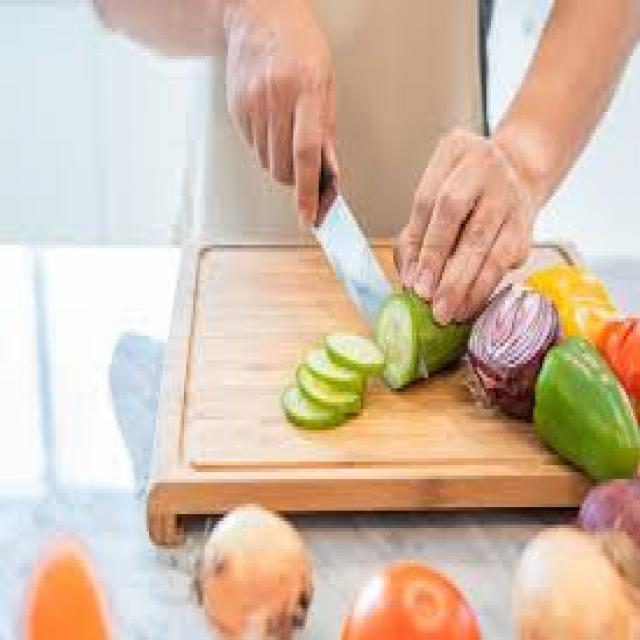organic waste: (530, 328, 638, 482), (191, 504, 309, 636), (514, 524, 638, 636), (466, 287, 556, 416), (340, 556, 479, 637), (23, 549, 107, 637), (524, 262, 614, 343), (409, 297, 482, 374), (577, 482, 638, 552), (596, 314, 638, 412), (296, 357, 360, 416), (375, 297, 414, 385), (296, 343, 363, 388), (277, 381, 342, 427), (331, 332, 382, 367)
